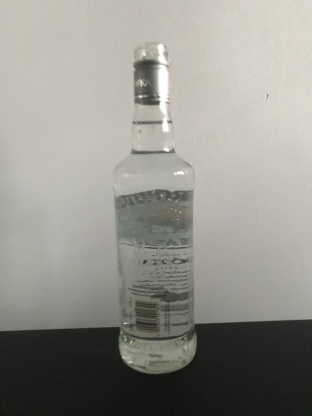nakretka: (131, 39, 171, 105)
